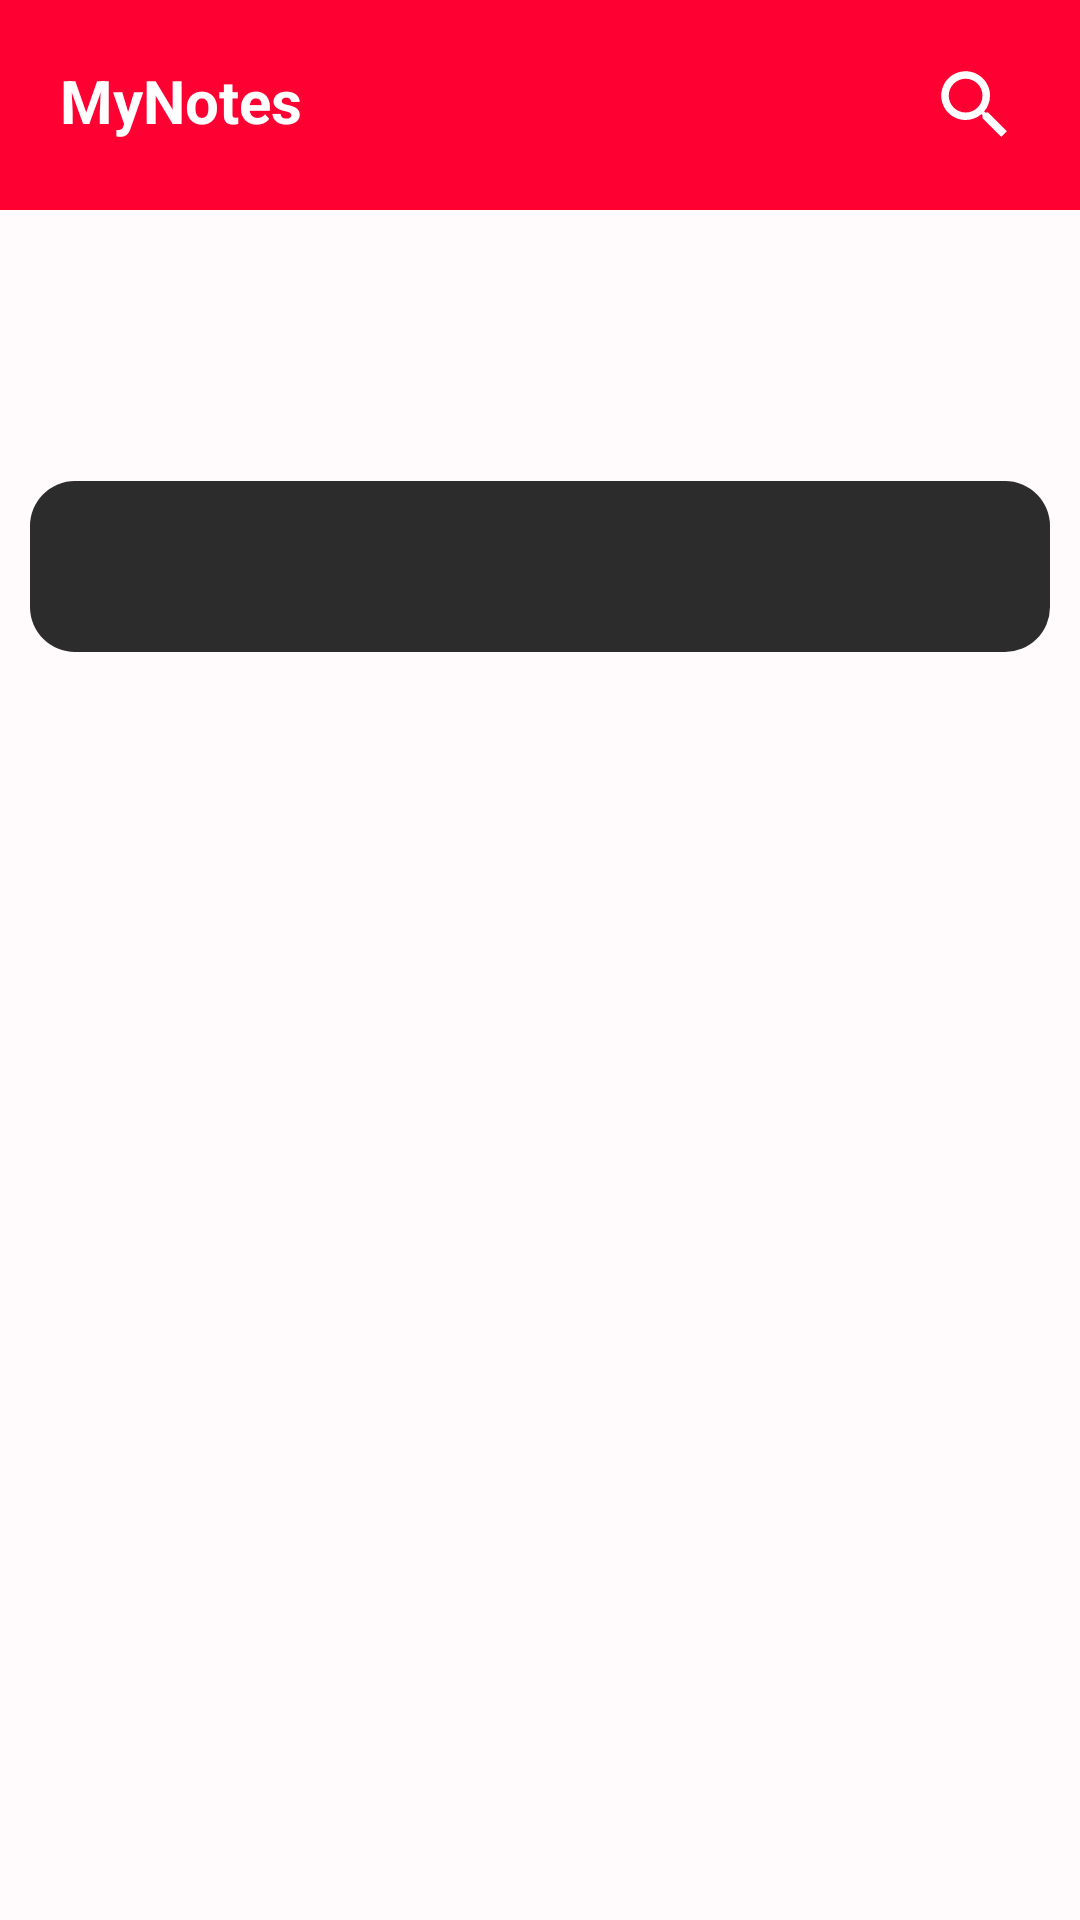

Point at icon controls on the screen. Image size 1080x1920, points as (x,y).
search: (974,104)
